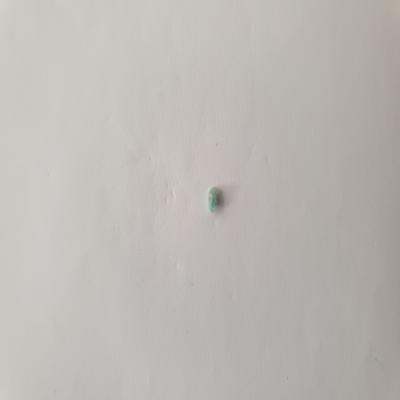plastic: (206, 183, 229, 221)
